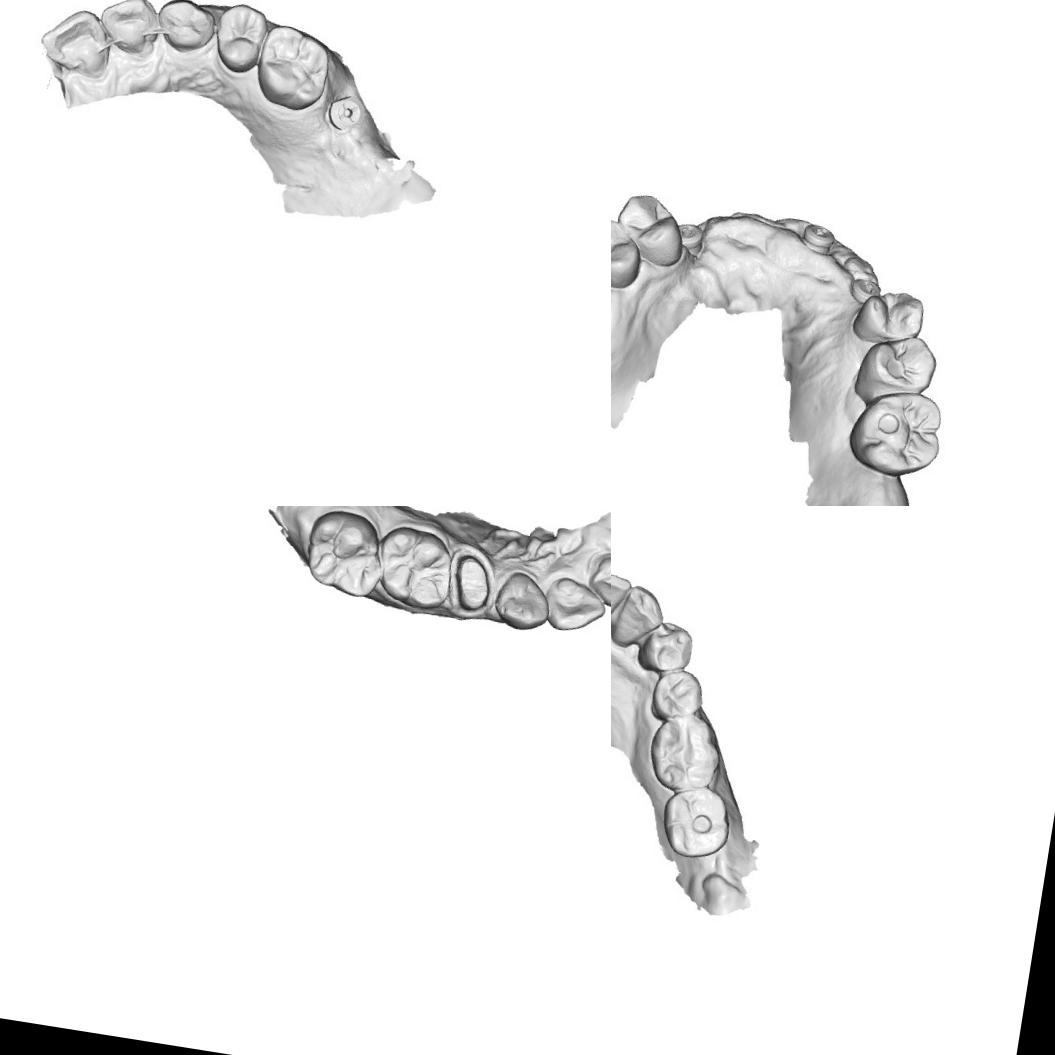canine: (93, 0, 170, 69), (611, 579, 669, 652), (492, 568, 554, 634)
crown: (445, 544, 500, 620)
implant: (845, 265, 890, 311), (797, 215, 841, 261), (675, 215, 712, 258)
implant_plus: (324, 91, 368, 141)
incisor: (34, 5, 114, 79), (540, 573, 611, 637), (585, 547, 611, 613), (611, 569, 627, 635)
molar: (838, 384, 950, 484), (297, 506, 393, 603), (364, 520, 462, 614), (247, 21, 338, 115), (650, 712, 728, 796), (658, 786, 732, 867)
premolar: (843, 330, 943, 414), (611, 182, 694, 272), (850, 284, 934, 350), (207, 0, 274, 79), (154, 0, 220, 58), (652, 666, 710, 724), (611, 214, 649, 294), (642, 621, 694, 673)
